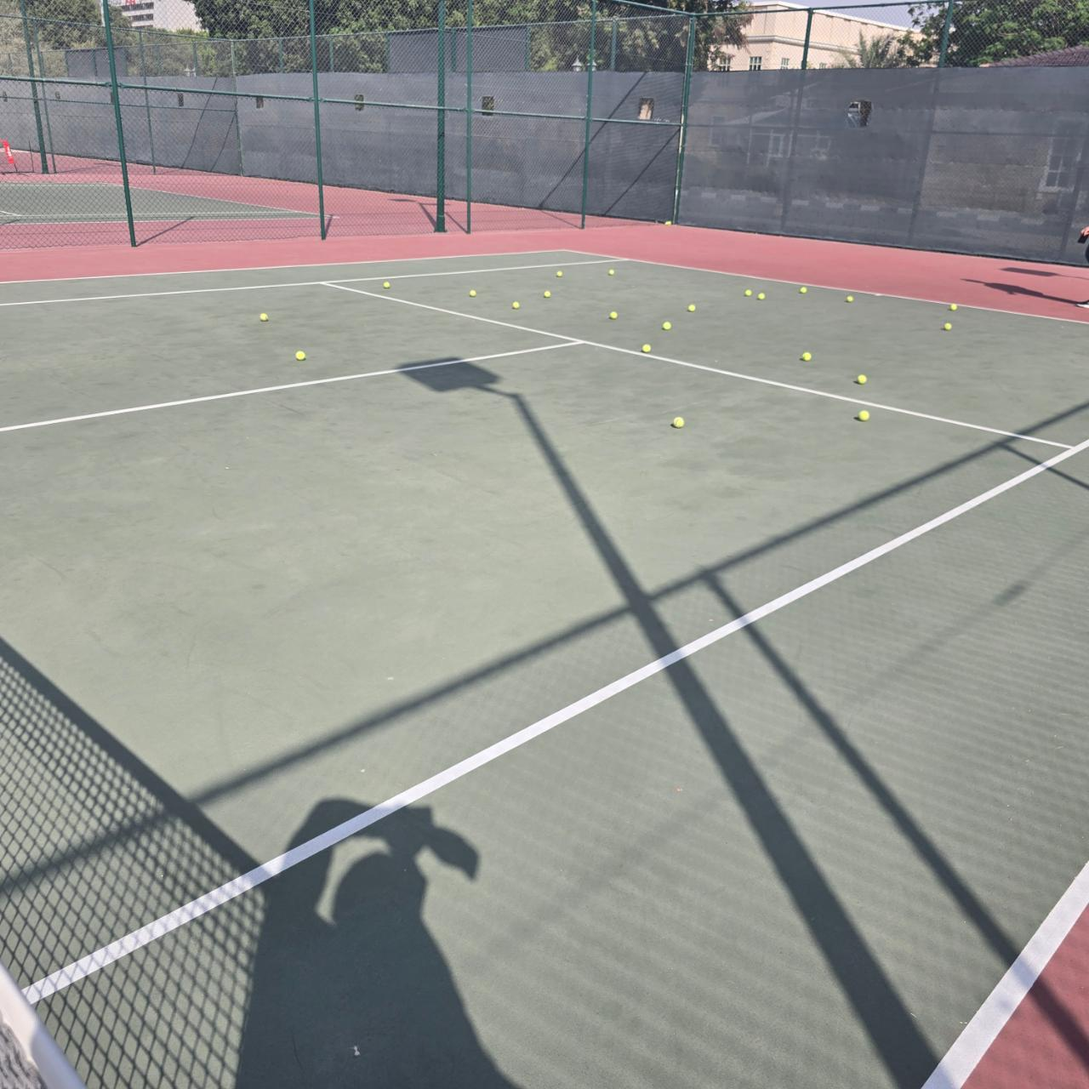tennis-ball: (672, 416, 685, 429), (857, 409, 870, 422), (295, 351, 306, 361), (662, 320, 672, 331), (641, 343, 652, 353), (857, 374, 867, 384), (802, 351, 812, 361), (382, 279, 391, 290), (609, 311, 619, 320), (468, 288, 477, 298), (259, 312, 268, 322), (943, 322, 953, 331), (511, 301, 520, 310), (543, 290, 552, 299), (607, 269, 616, 277), (688, 304, 696, 312), (757, 292, 765, 300), (846, 295, 854, 303), (950, 303, 958, 311), (745, 289, 753, 296), (800, 286, 807, 294), (556, 271, 563, 278), (665, 220, 672, 225)
